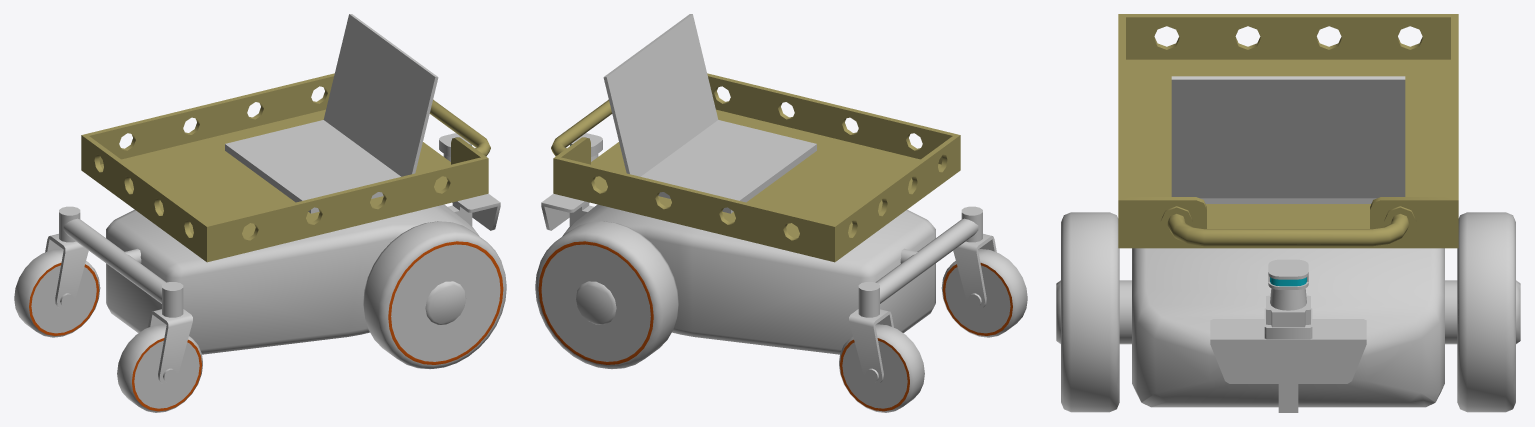
The model's file is shopbot.dae.
3 views of the same model, side by side, from view 1: azimuth 30°, elevation 25°; view 2: azimuth 150°, elevation 25°; view 3: azimuth 270°, elevation 25° (orthographic). The views are drawn at different scales.
Visible parts, largest first — view 1: tray, base_link, laptop, wheel_BL, wheel_FR, wheel_FL, wheelHolder_L, wheelHolder_R; view 2: tray, base_link, laptop, wheel_BR, wheel_FL, wheel_FR, wheelHolder_R, wheelHolder_L; view 3: tray, base_link, laptop, wheel_BR, wheel_BL, scannerEye, axle_BR, axle_BL.
Part boxes in pixels (<box>): tray: <box>81,73,490,262</box>; base_link: <box>59,193,500,354</box>; laptop: <box>225,14,438,213</box>; wheel_BL: <box>363,221,506,369</box>; wheel_FR: <box>14,249,100,337</box>; wheel_FL: <box>117,324,202,412</box>; wheelHolder_L: <box>148,309,192,385</box>; wheelHolder_R: <box>45,234,88,309</box>; tray: <box>551,73,960,262</box>; base_link: <box>541,193,982,354</box>; laptop: <box>603,14,816,213</box>; wheel_BR: <box>535,221,678,369</box>; wheel_FL: <box>941,249,1027,337</box>; wheel_FR: <box>839,324,924,412</box>; wheelHolder_R: <box>849,309,893,385</box>; wheelHolder_L: <box>953,234,996,309</box>; tray: <box>1118,14,1458,248</box>; base_link: <box>1132,248,1444,412</box>; laptop: <box>1171,76,1405,203</box>; wheel_BR: <box>1457,212,1520,412</box>; wheel_BL: <box>1056,212,1119,412</box>; scannerEye: <box>1264,259,1312,339</box>; axle_BR: <box>1445,280,1457,344</box>; axle_BL: <box>1119,280,1131,344</box>.
Bounding box in the file's own units: 81.44 × 49.64 × 60.29.
